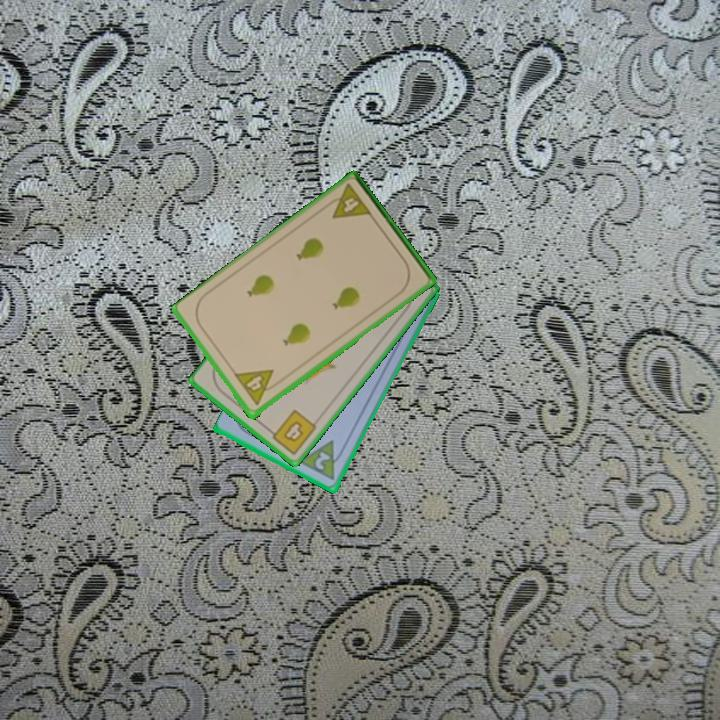2p: (311, 448, 334, 473)
4b: (264, 406, 320, 458)
4p: (231, 366, 283, 409), (321, 180, 374, 222)
